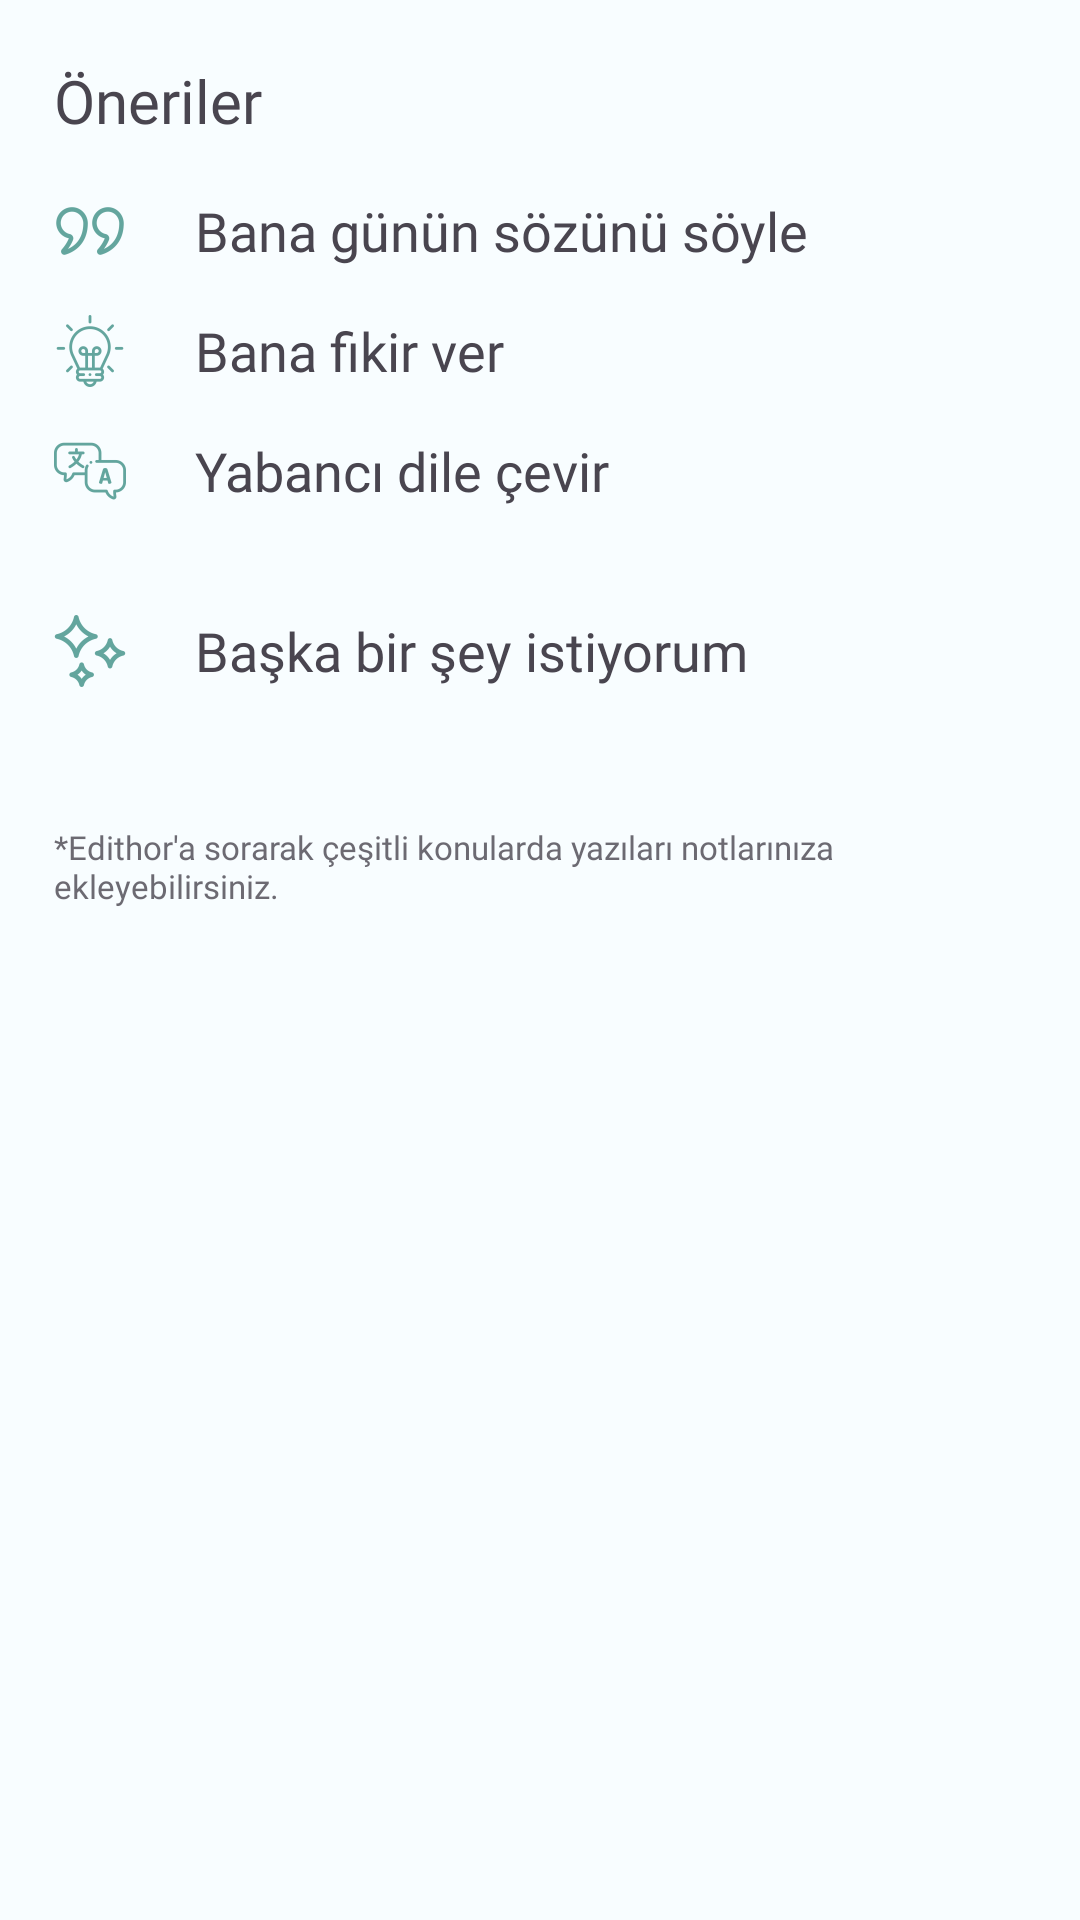

Named icons in this screenshot (1080 × 1920) and their centers, point (x, y):
brainstorm: point (90, 351)
gpt bot: point (89, 651)
quote: point (90, 231)
translate: point (90, 471)
